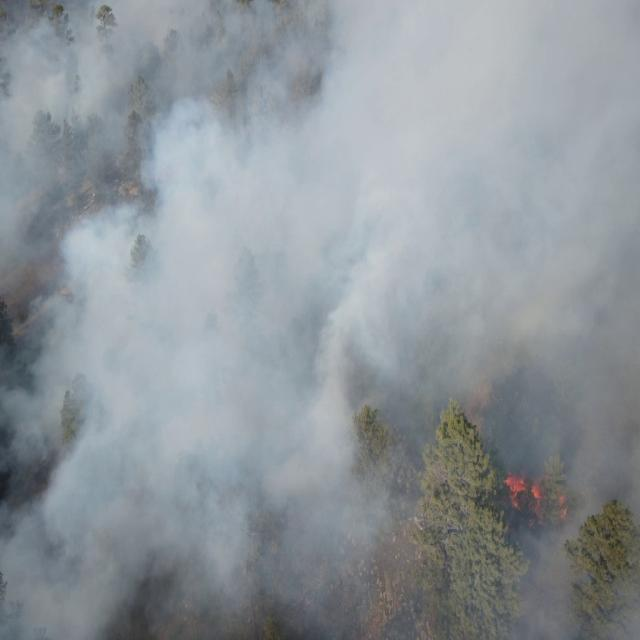fire: (502, 472, 546, 527), (558, 492, 568, 524)
smoke: (1, 0, 640, 640)
